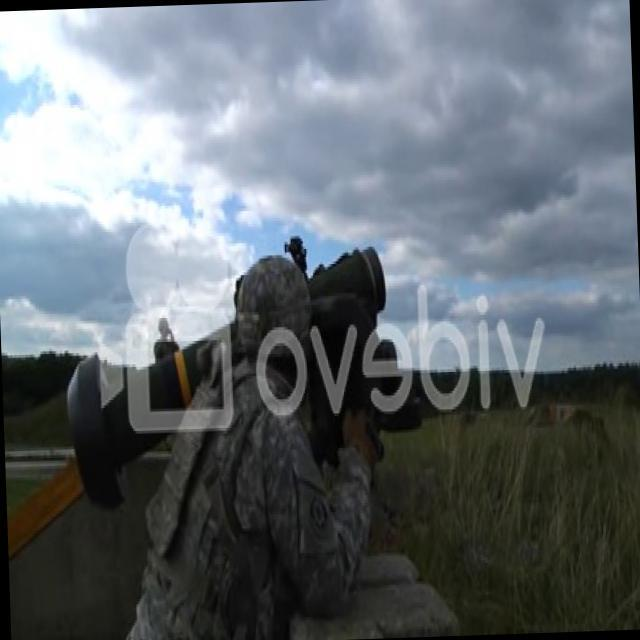rocket: (64, 326, 246, 508)
